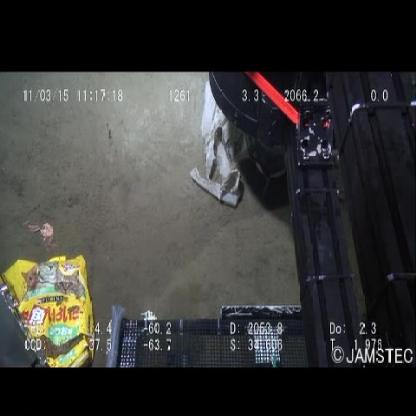Rov: (205, 72, 416, 302), (102, 302, 416, 366)
Rác: (1, 253, 97, 368), (188, 78, 251, 210)
